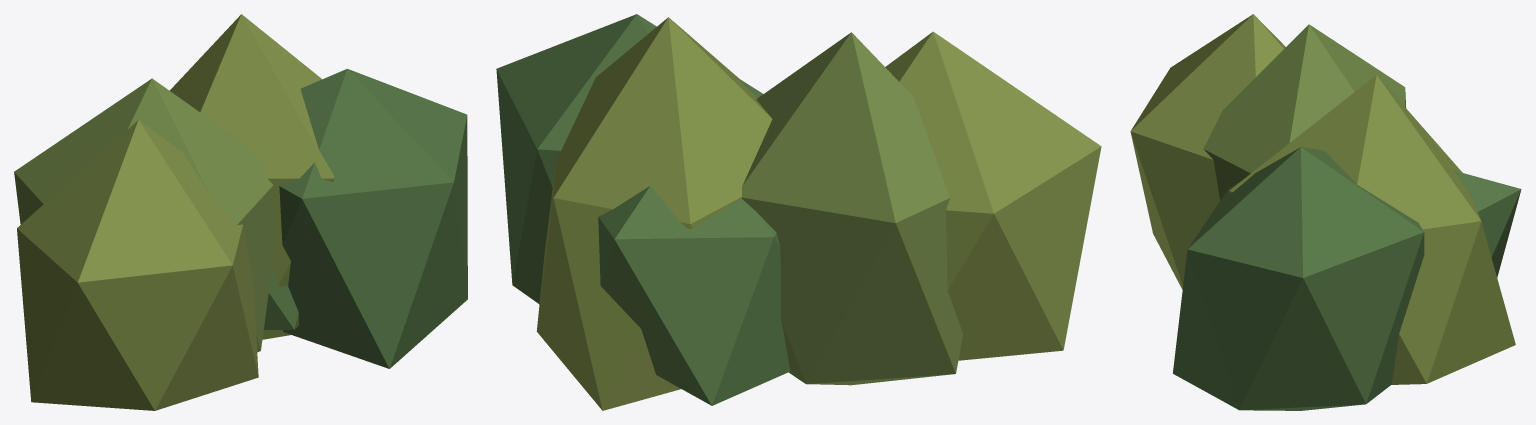
Rendered from BP_Shrub_3.fbx.
3 views of the same model, side by side, from view 1: azimuth 30°, elevation 25°; view 2: azimuth 150°, elevation 25°; view 3: azimuth 270°, elevation 25° (orthographic). The views are drawn at different scales.
Visible parts, largest first — view 1: BP_Shrub_3; view 2: BP_Shrub_3; view 3: BP_Shrub_3.
Part boxes in pixels (left/top/right/bottom): BP_Shrub_3: left=14, top=14, right=467, bottom=410; BP_Shrub_3: left=496, top=14, right=1101, bottom=410; BP_Shrub_3: left=1130, top=14, right=1521, bottom=410.
Size of the model in its own units: 159 by 104 by 120.
